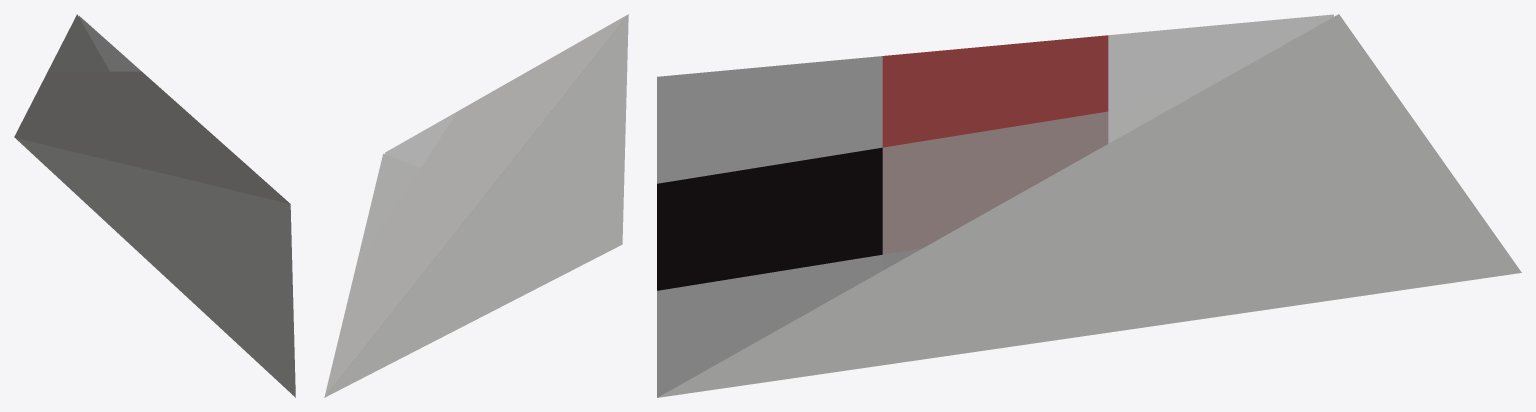
The model's file is mpzy012-geode.glb.
3 renders of one model, left to right at view 1: azimuth 30°, elevation 25°; view 2: azimuth 150°, elevation 25°; view 3: azimuth 270°, elevation 25°, orthographic. The views are drawn at different scales.
Visible parts, largest first — view 1: Node; view 2: Node; view 3: Node.
Part boxes in pixels (x1,y1,x2,y2): Node: (14, 14, 295, 397); Node: (324, 14, 628, 397); Node: (657, 14, 1521, 397).
Size of the model in its own units: 0.0201 by 0.2907 by 0.6041.
Materials: 1 (1 with a texture image).
